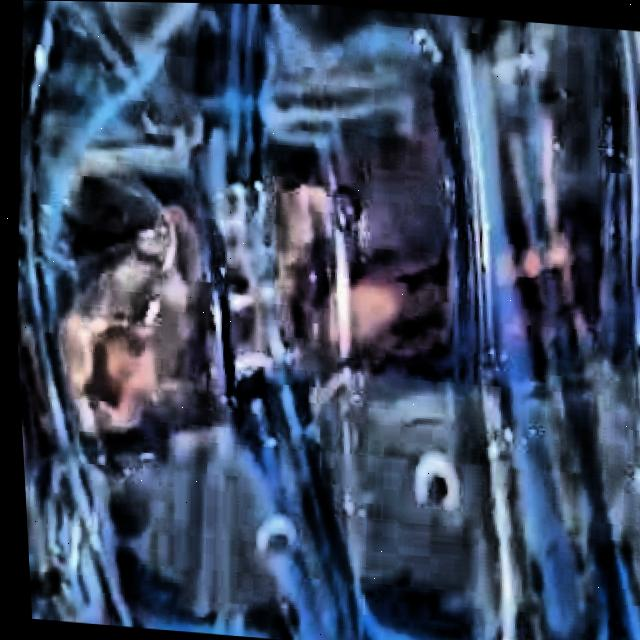plastic: (13, 0, 640, 640)
